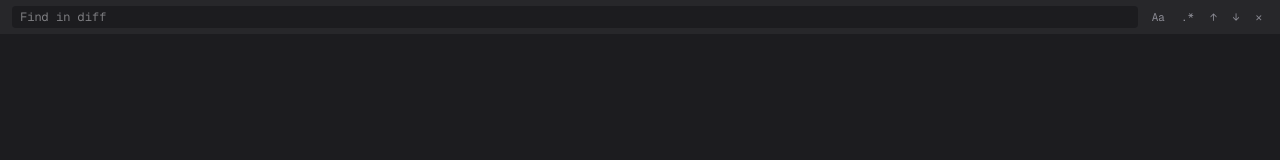
it: FindBar › surfaces an invalid regex instead of throwing
Click the button named "Regular expression": [1188, 17] box [1175,7,1200,27]
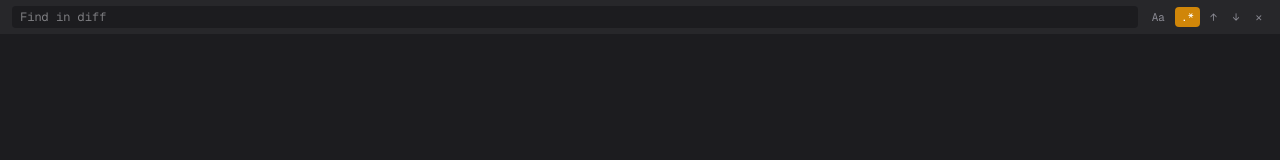
In the field labelled "Find in diff": [575, 17] box [12,6,1138,28], type "("
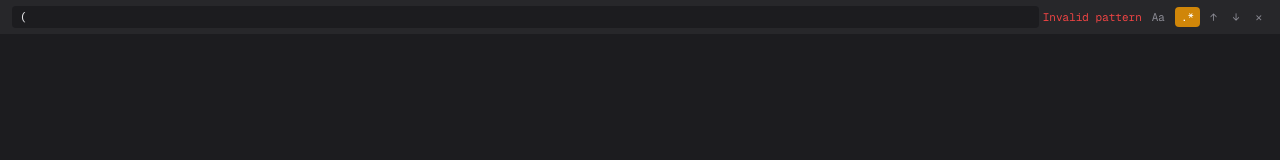
Expected: the text "Invalid pattern" is shown, [1043,9,1142,25]
